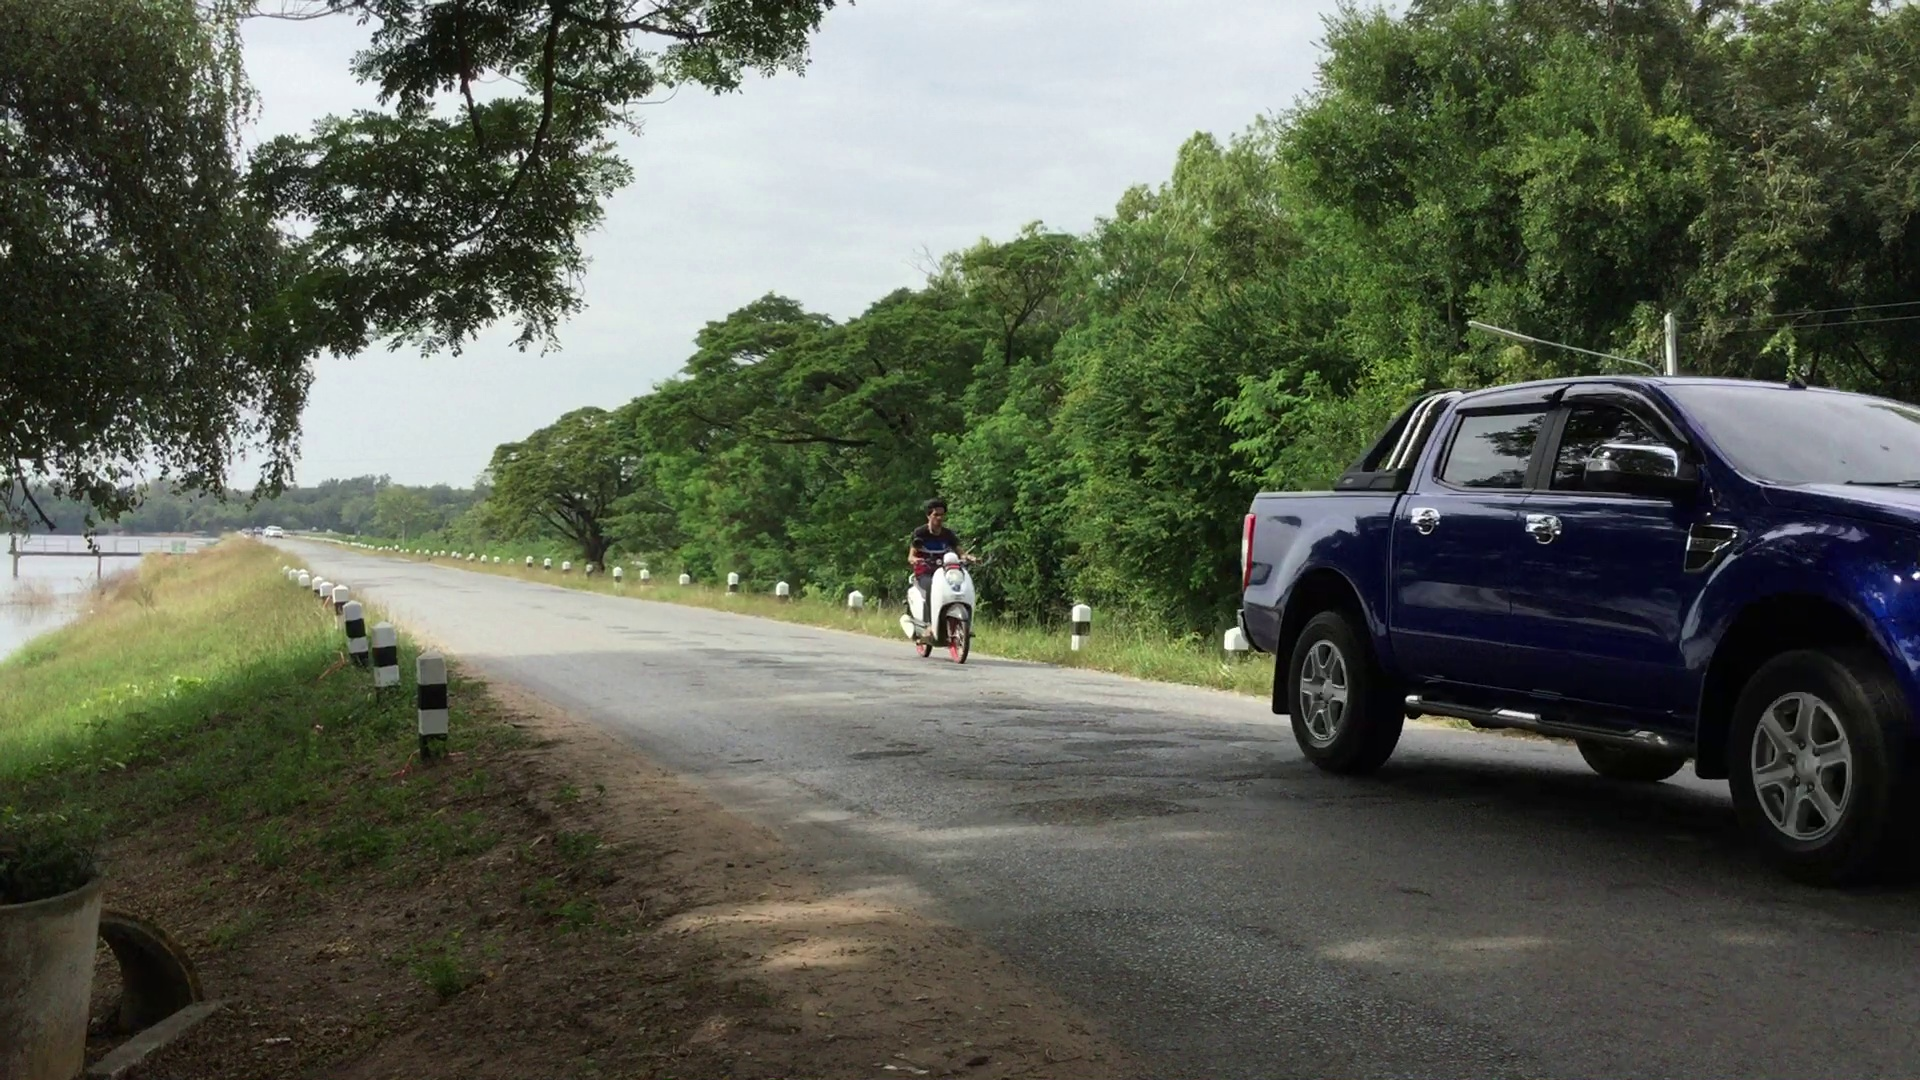car: (1245, 377, 1914, 860)
person: (905, 504, 977, 659)
